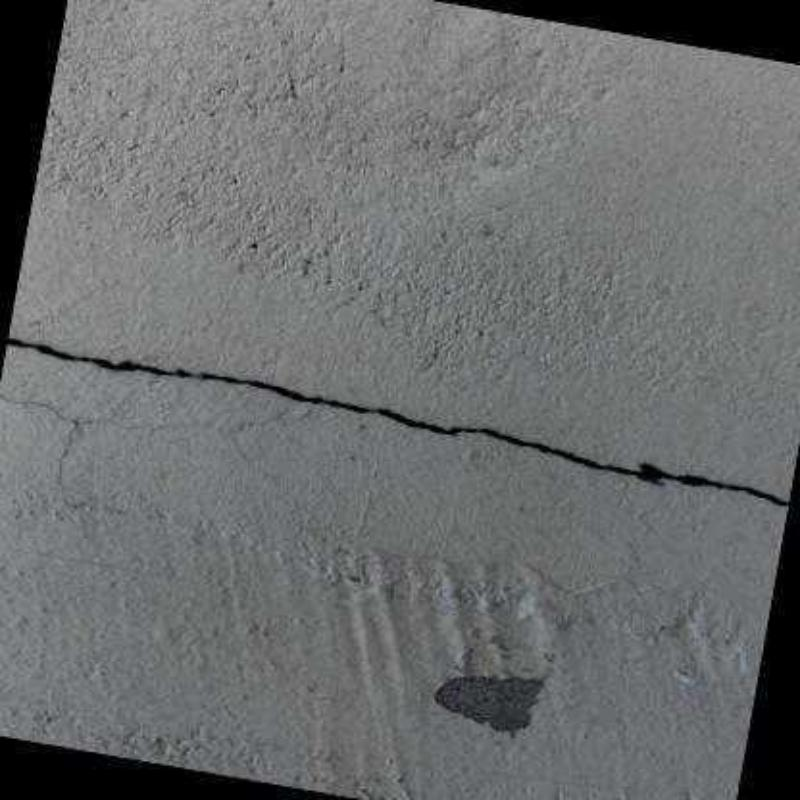crack: (4, 338, 788, 506), (0, 394, 96, 508), (148, 408, 310, 463)
